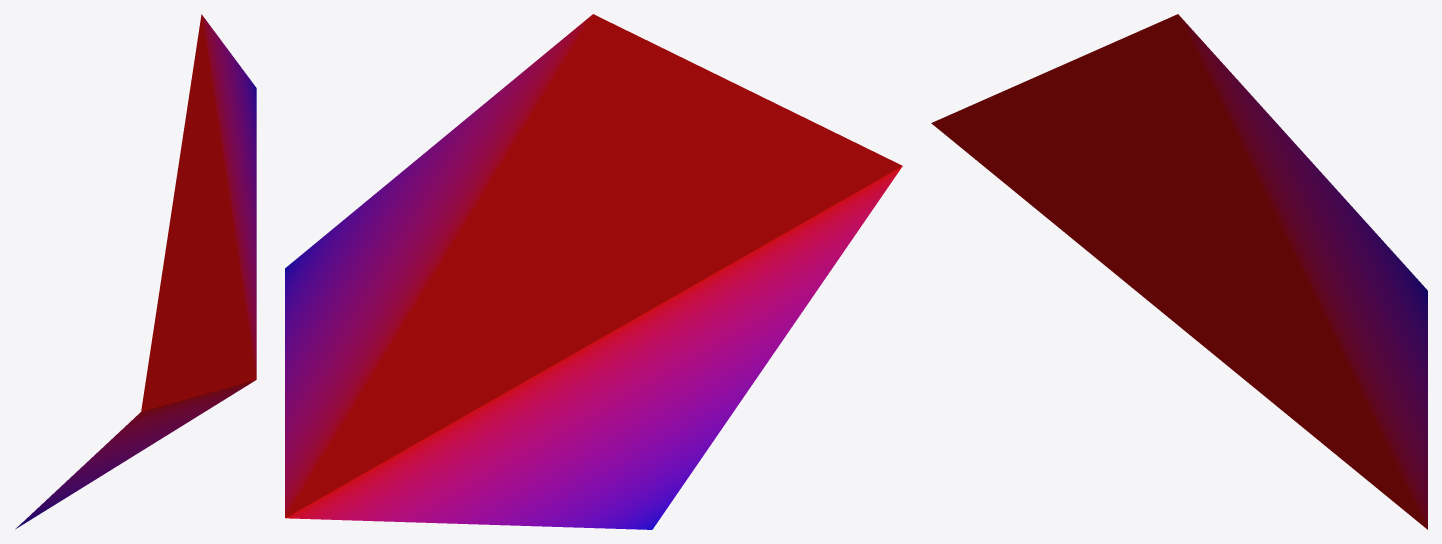
Rendered from border_patch_16.obj.
The picture shows the model from 3 angles, left to right: view 1: azimuth 30°, elevation 25°; view 2: azimuth 150°, elevation 25°; view 3: azimuth 270°, elevation 25°; orthographic projection. The views are drawn at different scales.
Size of the model in its own units: 0.9272 by 1.12 by 1.16.
